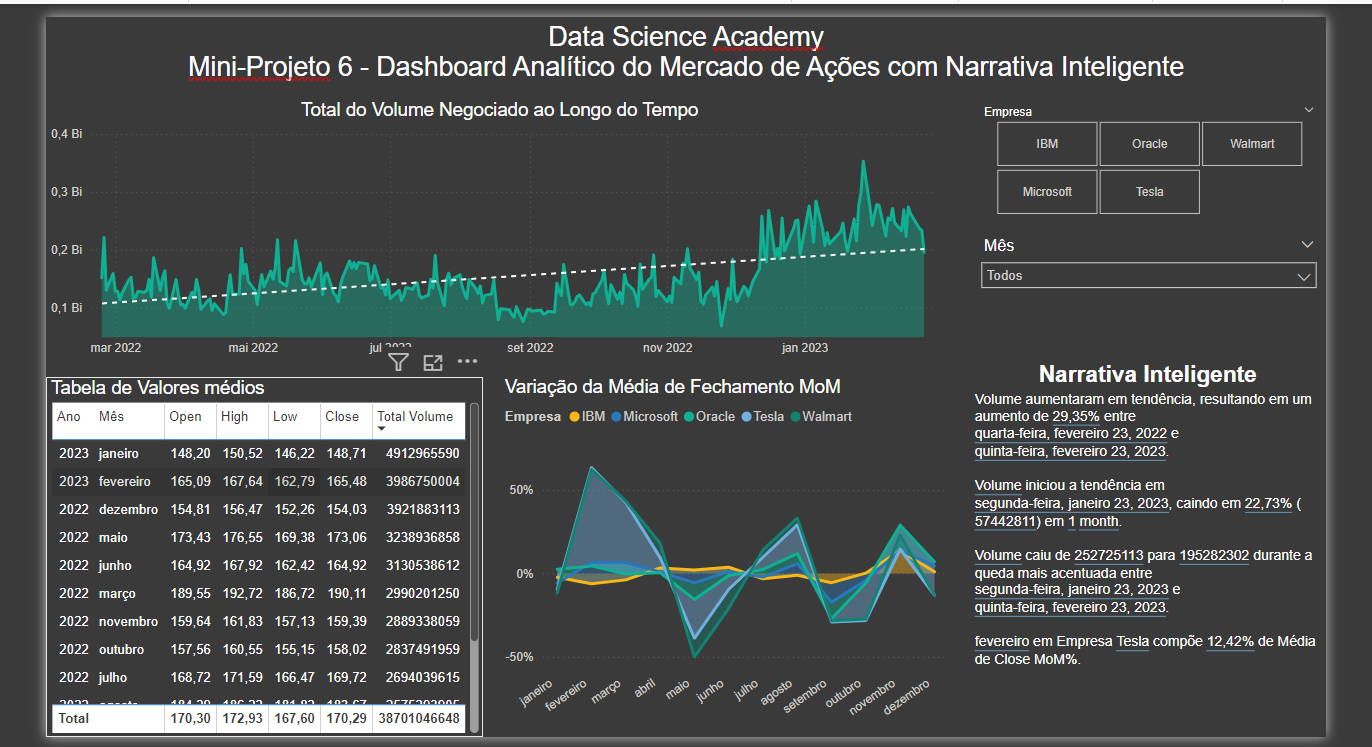

What the dashboard file says about the page in this screenshot:
{"tool":"powerbi","page":{"name":"Página 1","canvas":[1280,720],"ordinal":0},"visuals":[{"type":"stackedAreaChart","title":"Total do Volume Negociado Por Data","fields":{"Category":["StockMarket.Data"],"Y":["Sum(StockMarket.Volume)"]},"box":[0,82.3,924.9,277.2],"z":0},{"type":"slicer","fields":{"Values":["StockMarket.Empresa"]},"box":[924.9,82.3,355.4,60.4],"z":1},{"type":"textbox","box":[0,0,1280.3,82.3],"z":2},{"type":"tableEx","fields":{"Values":["StockMarket.Data.Variation.Hierarquia de datas.Ano","StockMarket.Data.Variation.Hierarquia de datas.Mês","StockMarket.Open","Avg(StockMarket.High)","Avg(StockMarket.Low)","Avg(StockMarket.Close)","Sum(StockMarket.Volume)"]},"box":[0,359.5,437.7,360.9],"z":3},{"type":"slicer","fields":{"Values":["StockMarket.Data.Variation.Hierarquia de datas.Mês"]},"box":[924.9,142.7,355.4,57.6],"z":4},{"type":"stackedAreaChart","fields":{"Y":["Sum(StockMarket.Volume)"],"Category":["StockMarket.Data.Variation.Hierarquia de datas.Mês"]},"box":[437.7,359.5,487.1,360.9],"z":5},{"type":"textbox","box":[924.9,200.3,355.4,520.1],"z":6}]}

Visuals, with their boxes on the page's 1280x720 design canvas (x1, y1, x2, y2). These are canvas units, not pixel positions in the 1372x747 screenshot, which may show the page scaled, cropped or inside an application window:
"Total do Volume Negociado Por Data" stackedAreaChart: [x1=0, y1=82, x2=925, y2=360]
slicer - StockMarket.Empresa: [x1=925, y1=82, x2=1280, y2=143]
textbox: [x1=0, y1=0, x2=1280, y2=82]
tableEx - StockMarket.Data.Variation.Hierarquia de datas.Ano x StockMarket.Data.Variation.Hierarquia de datas.Mês: [x1=0, y1=360, x2=438, y2=720]
slicer - StockMarket.Data.Variation.Hierarquia de datas.Mês: [x1=925, y1=143, x2=1280, y2=200]
stackedAreaChart - Sum(StockMarket.Volume) x StockMarket.Data.Variation.Hierarquia de datas.Mês: [x1=438, y1=360, x2=925, y2=720]
textbox: [x1=925, y1=200, x2=1280, y2=720]
